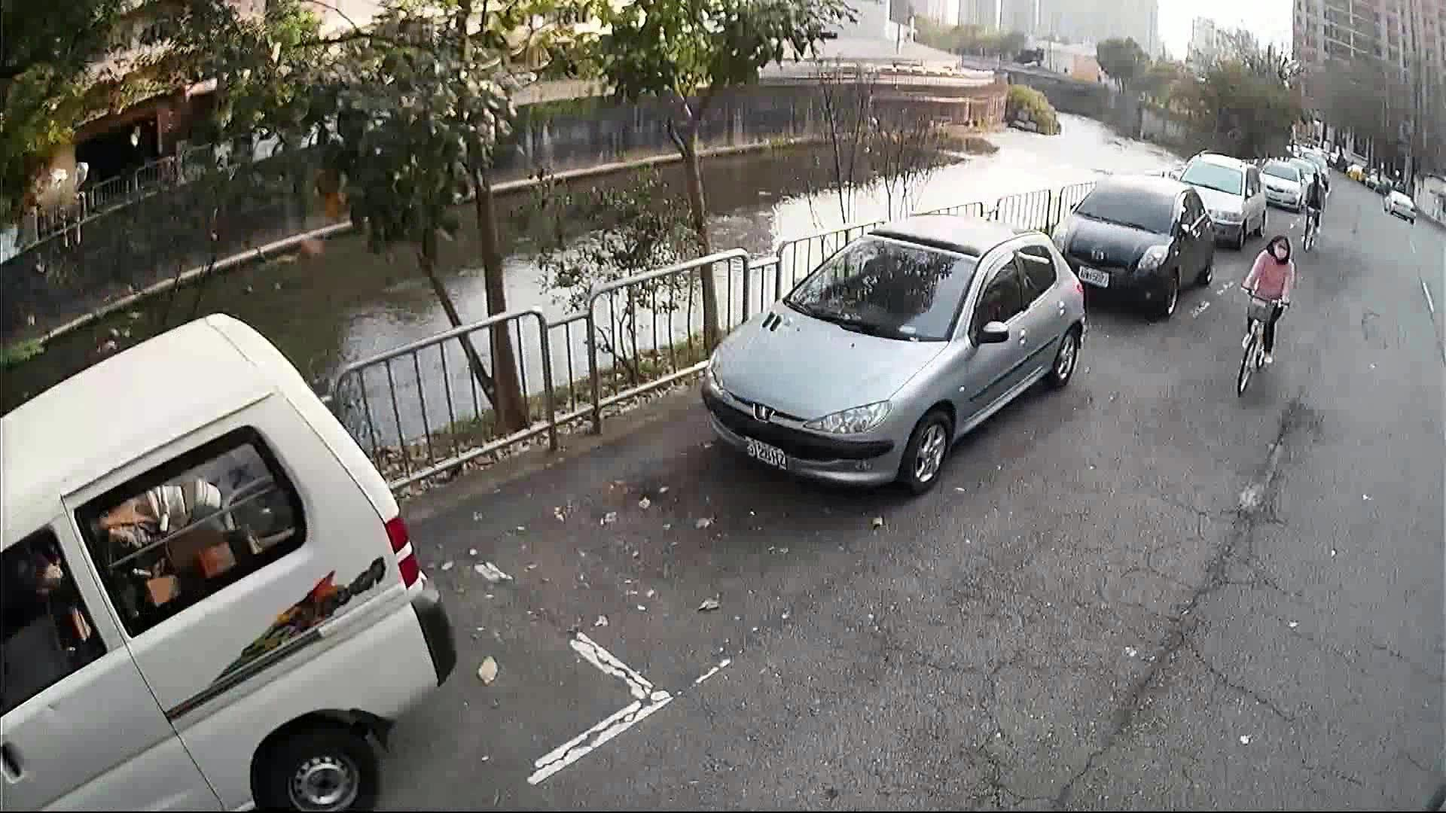person: (1237, 230, 1297, 366), (1297, 168, 1327, 251)
